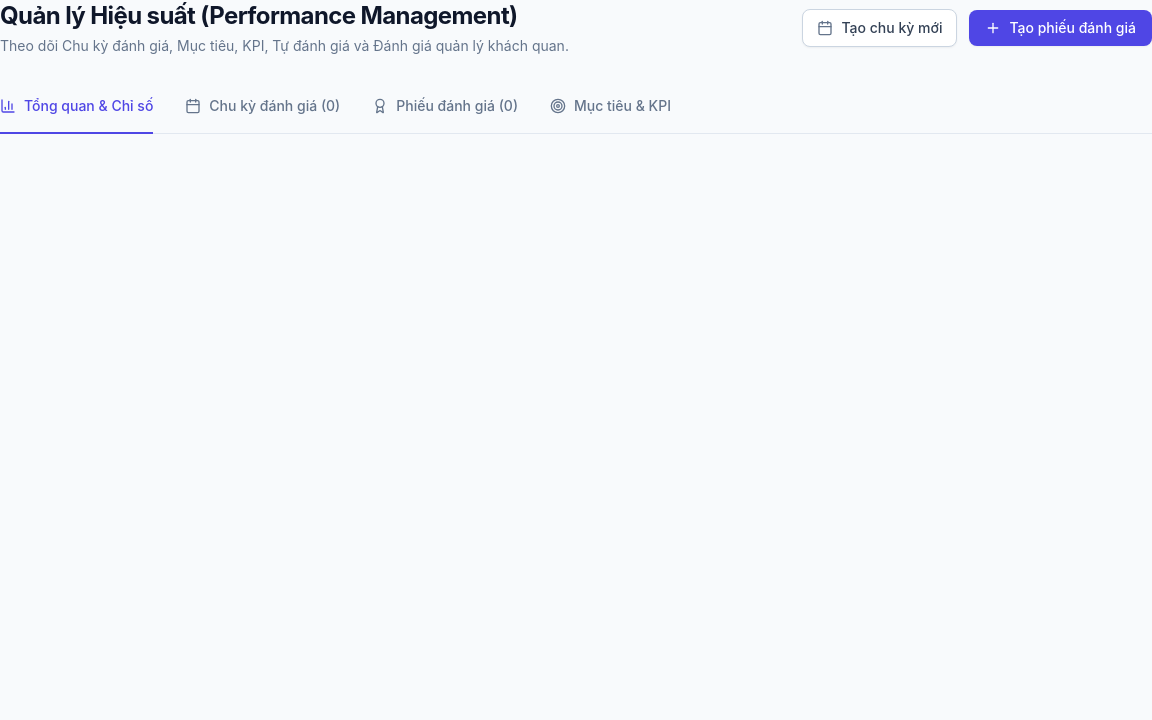
PerformancePage & Employee Review UI › opens detail modal for a review and inspects immutable completed review
Click the button "Phiếu đánh giá (0)" at (445, 107), box left=372, top=80, right=518, bottom=134
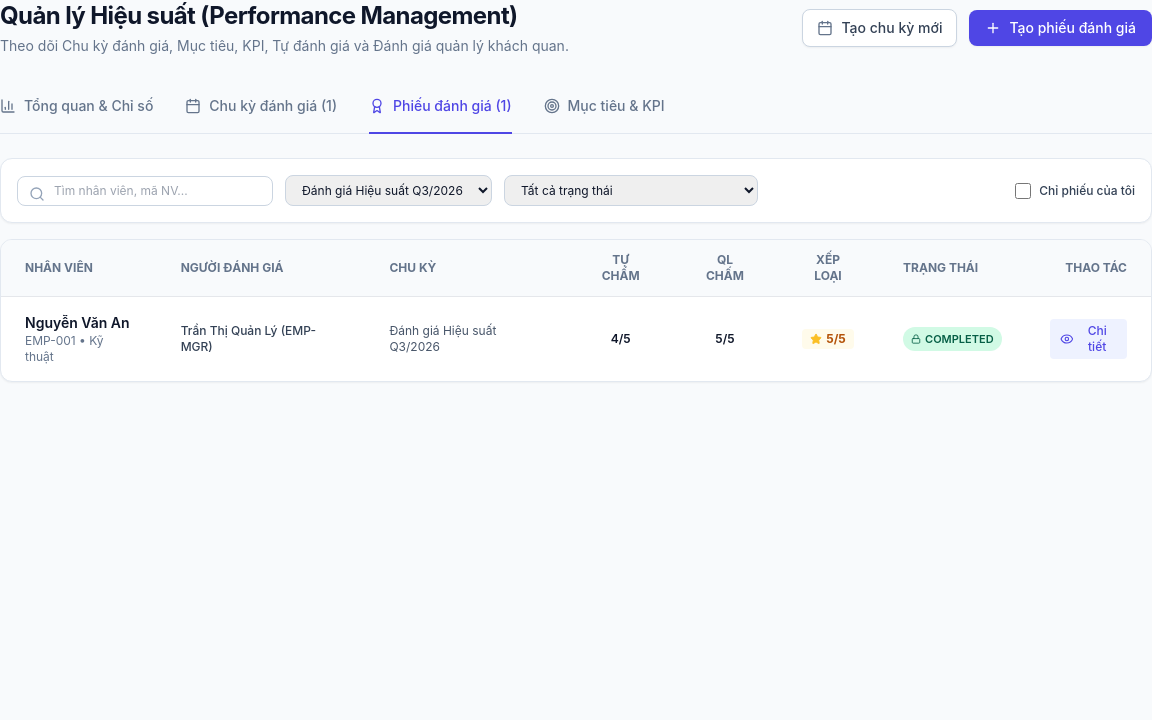
Result: the text "Chi tiết" is shown at left=1088, top=323, right=1107, bottom=354
Click the button "Chi tiết" at (1088, 339), box left=1050, top=319, right=1127, bottom=359
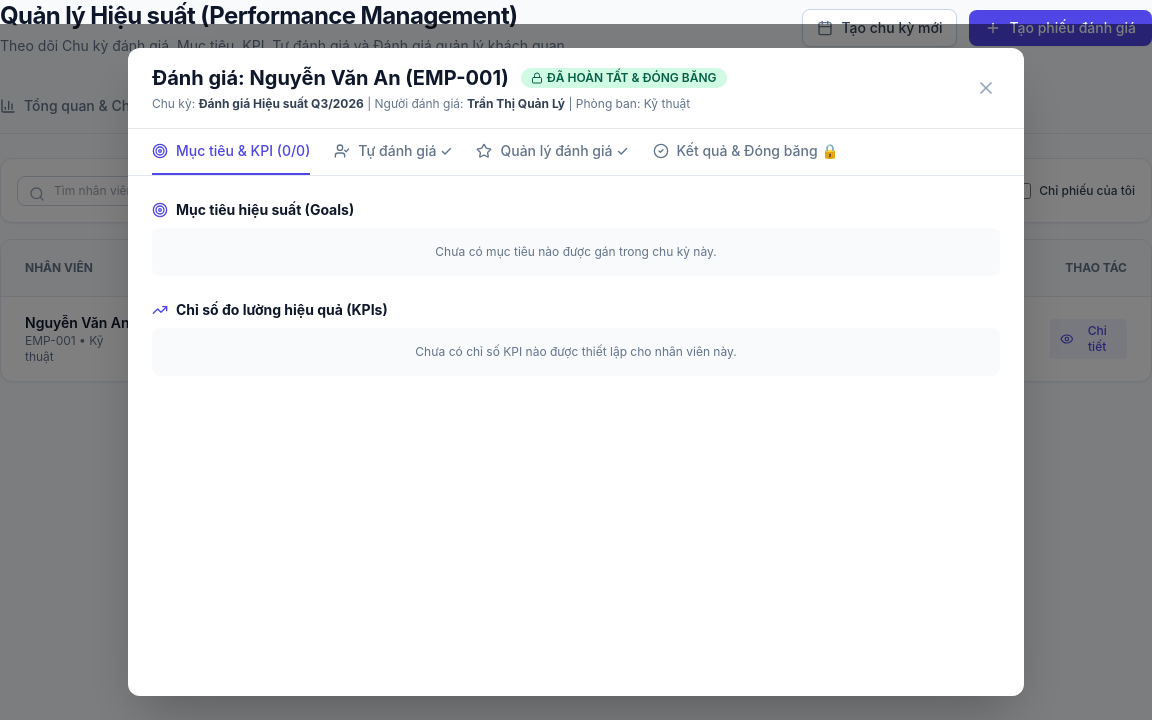
Result: the text "ĐÃ HOÀN TẤT & ĐÓNG BĂNG" is shown at left=547, top=70, right=717, bottom=86
